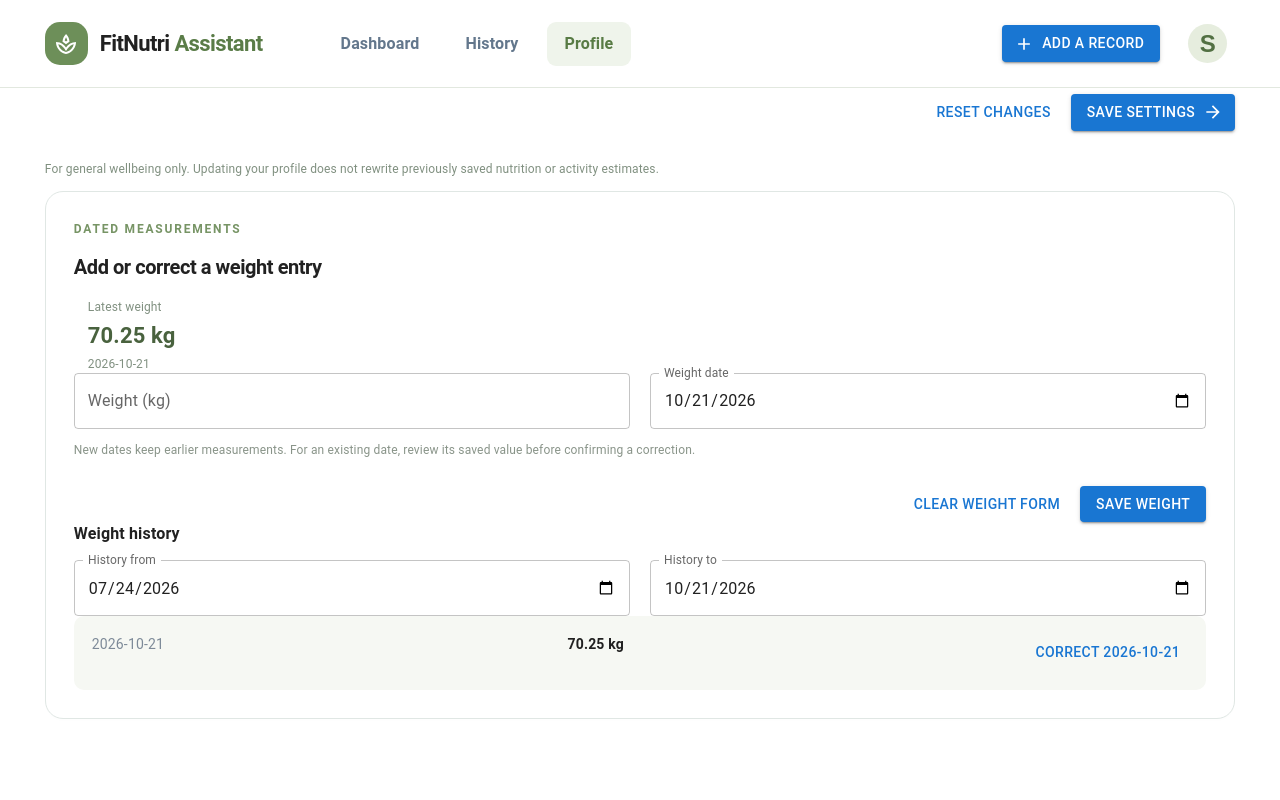
F14 separate profile settings and dated weight actions › same-date conflict requires explicit review before sending the current version
The image size is (1280, 800).
(page scrolled)
Type "71.25" into the number field labelled "Weight (kg)" at (352, 401), box [74,373,630,429]
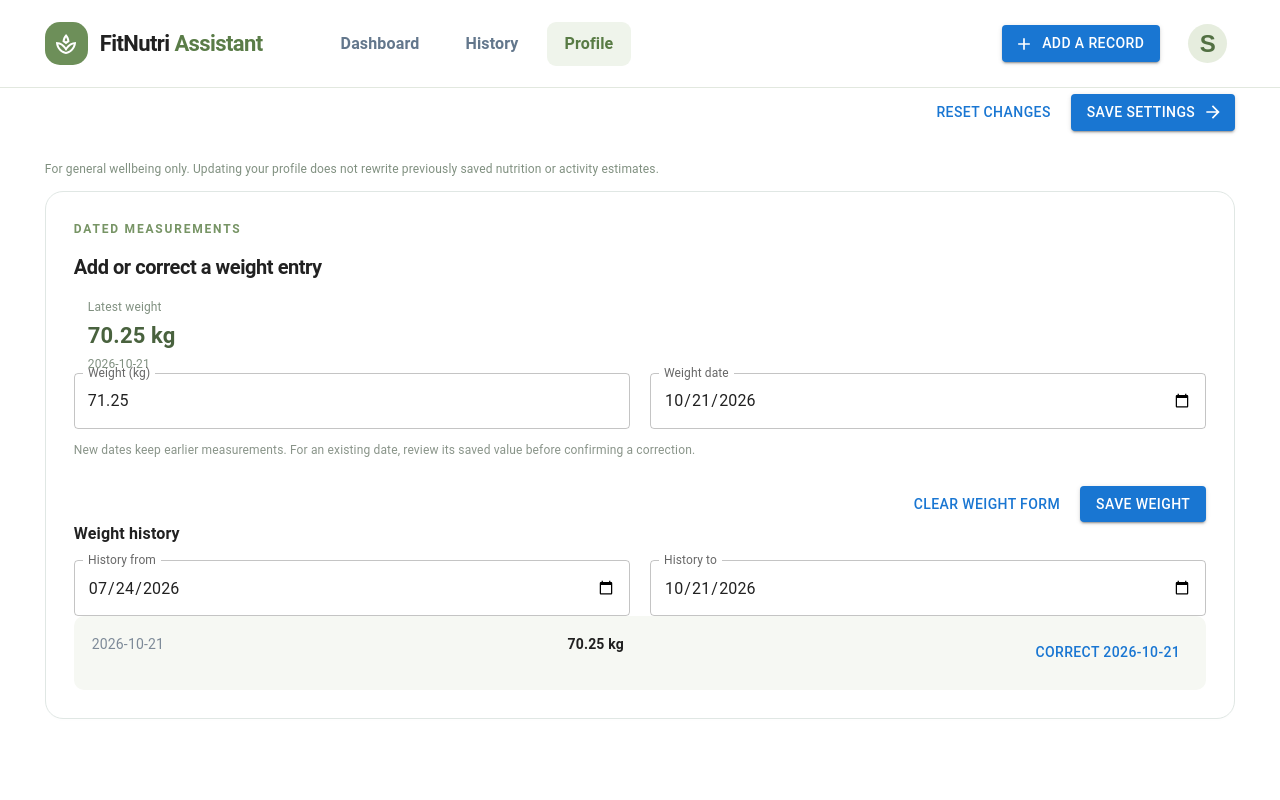
Click the button "Save weight" at (1143, 504), box [1080,486,1206,522]
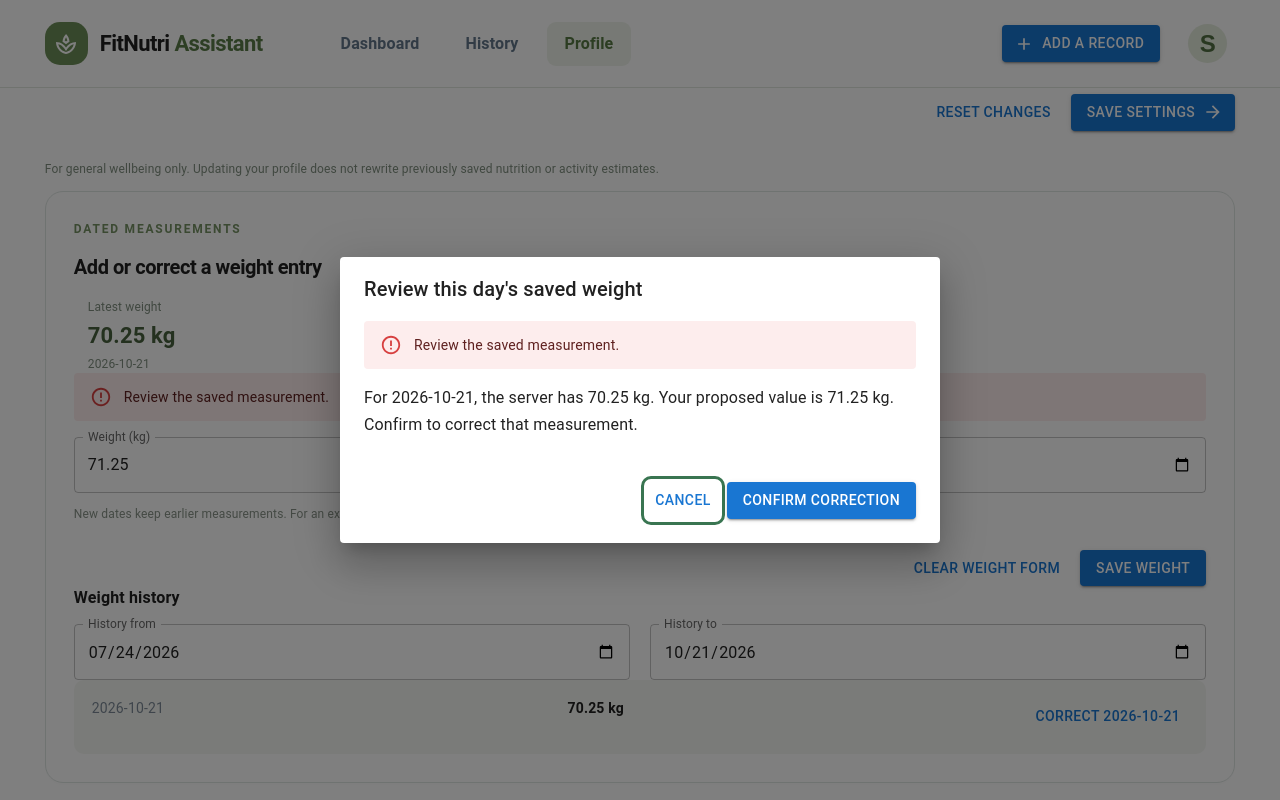
Now the dialog "Review this day's saved weight" is shown, box [340,257,940,543]
Click the button "Confirm correction" at (821, 500), box [727,482,916,519]
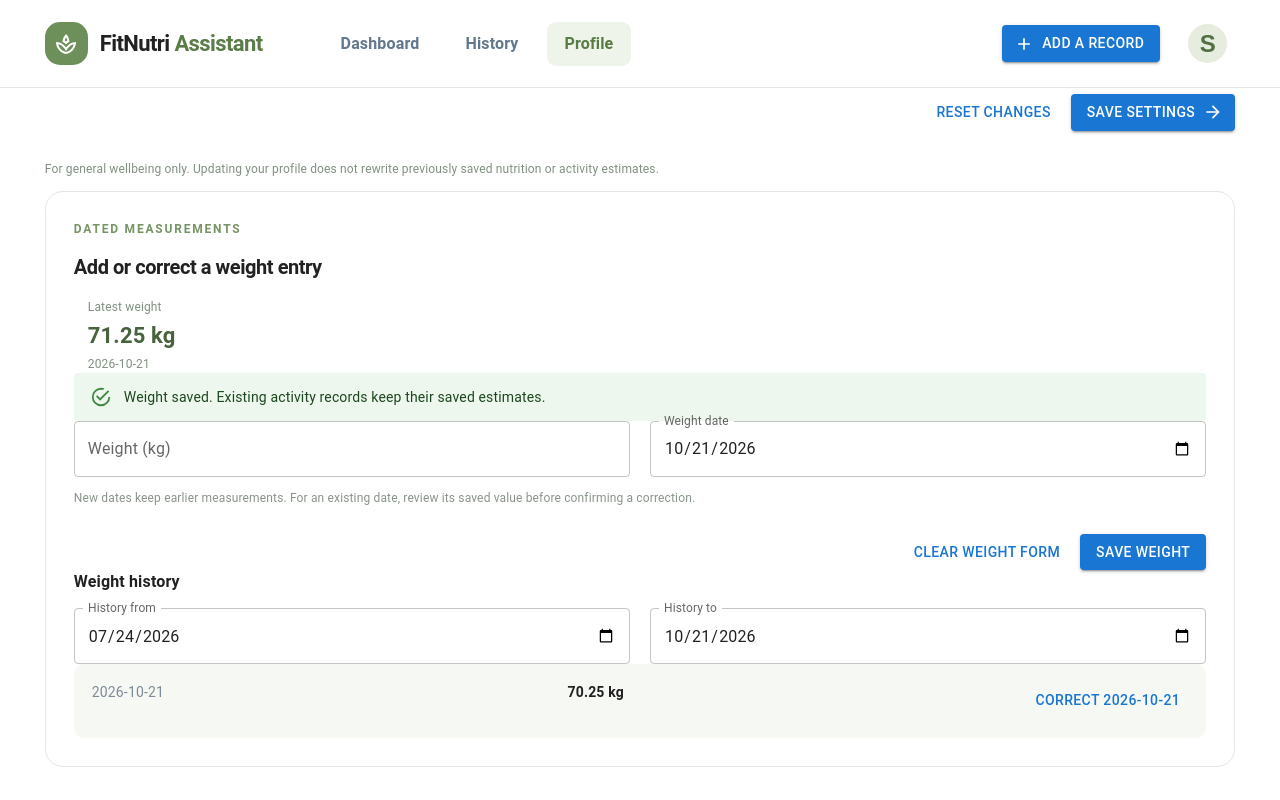
Now the text "Weight saved. Existing activity records keep their saved estimates." is shown, box [124,389,546,405]
